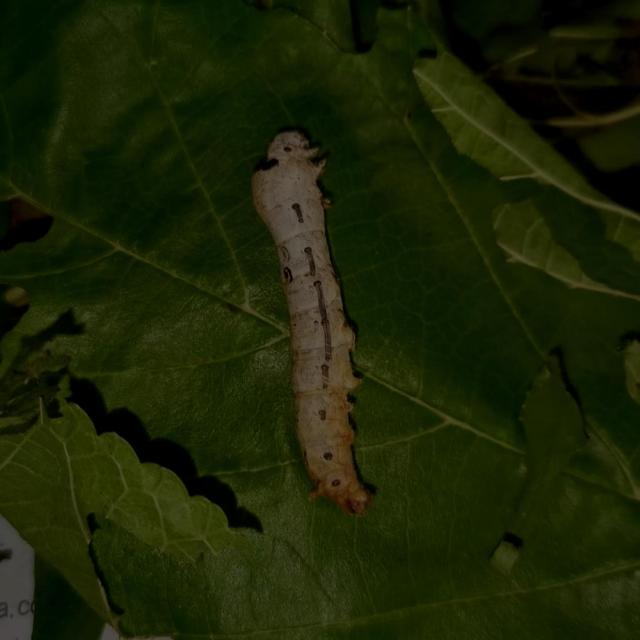Grasserie: (187, 89, 456, 534)
